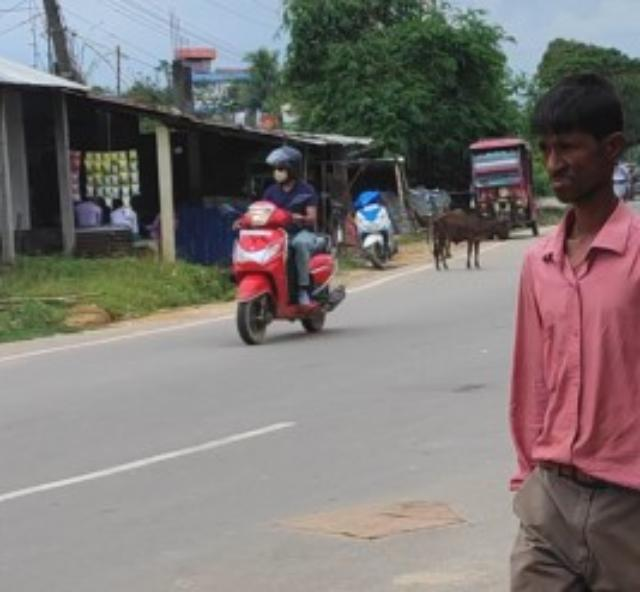licensePlate: (237, 227, 274, 235)
motorcycle: (229, 145, 350, 349)
withHelmet: (264, 148, 306, 184)
